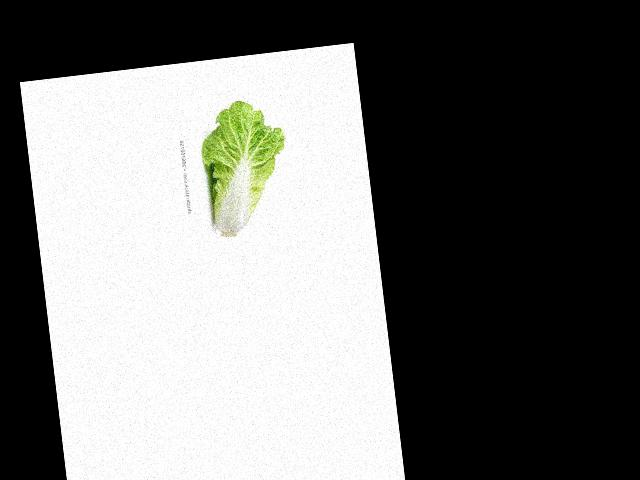lettuce: (202, 110, 290, 234)
